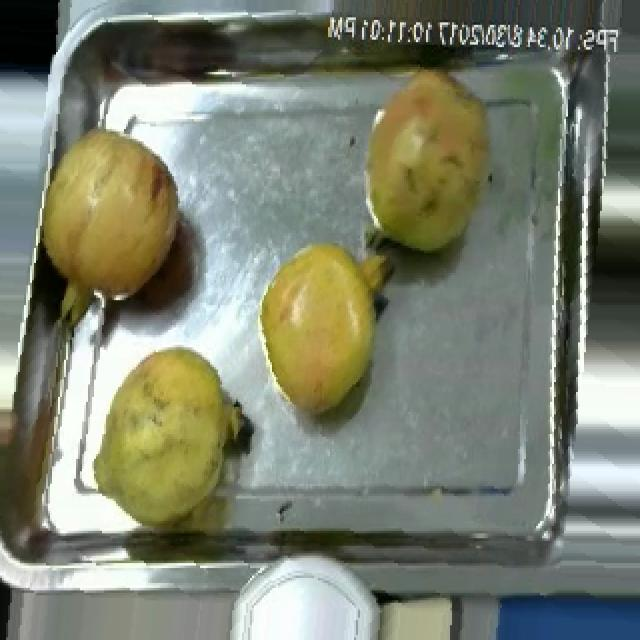fruit: (84, 330, 260, 546), (28, 106, 192, 328), (350, 57, 510, 265), (248, 226, 390, 432)
